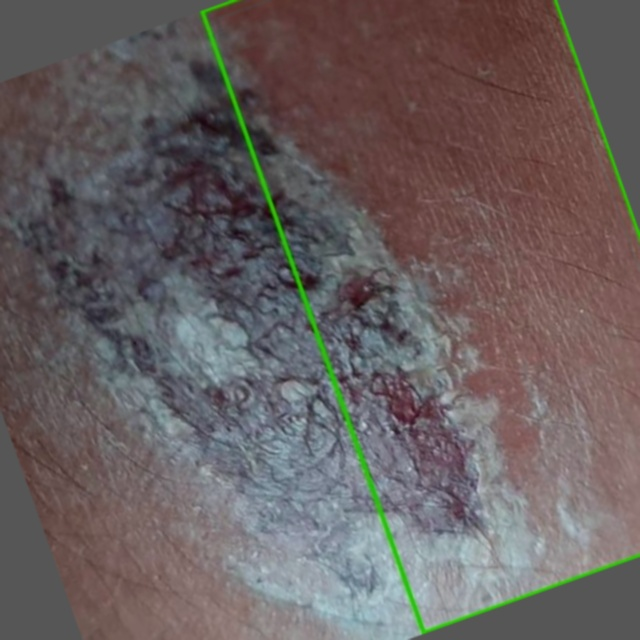Atopic Dermatitis: (202, 0, 639, 632)
